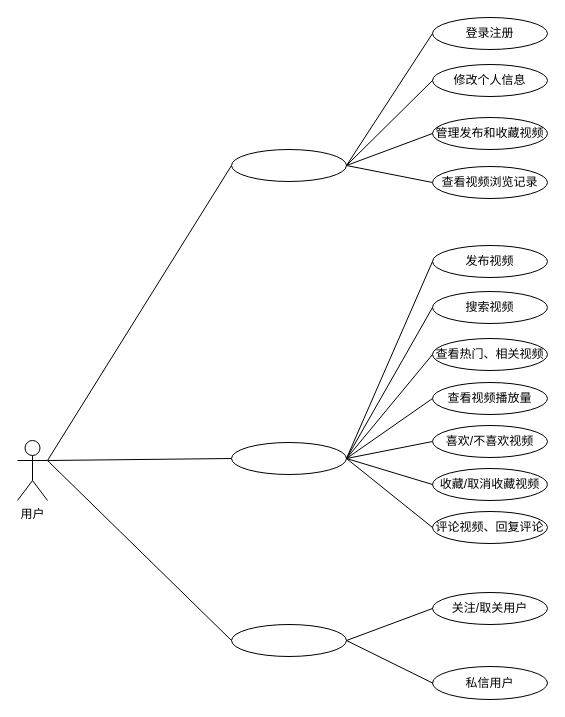
This 565x717 diagram has some shape labels left out. The centre of each missing label's shape, as x and y in pixels:
基础模块: the point at 288,165
社交模块: the point at 288,640
视频模块: the point at 288,458
